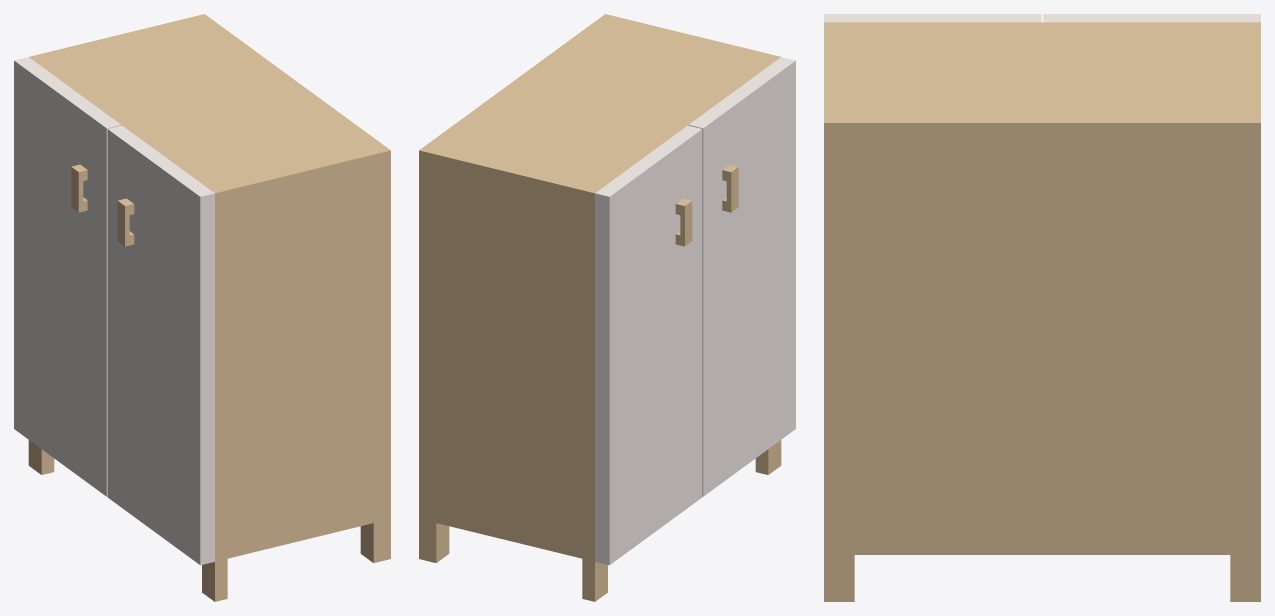
The model's file is Furn8_chest_color1.fbx.
The picture shows the model from 3 angles, left to right: view 1: azimuth 30°, elevation 25°; view 2: azimuth 150°, elevation 25°; view 3: azimuth 270°, elevation 25°; orthographic projection. The views are drawn at different scales.
Visible parts, largest first — view 1: корпус шкафяика.001; view 2: корпус шкафяика.001; view 3: корпус шкафяика.001.
Boxes of the visible parts, <box> form: корпус шкафяика.001: <box>14,14,390,601</box>; корпус шкафяика.001: <box>419,14,795,601</box>; корпус шкафяика.001: <box>824,14,1260,601</box>.
Size of the model in its own units: 153 by 299 by 247.
